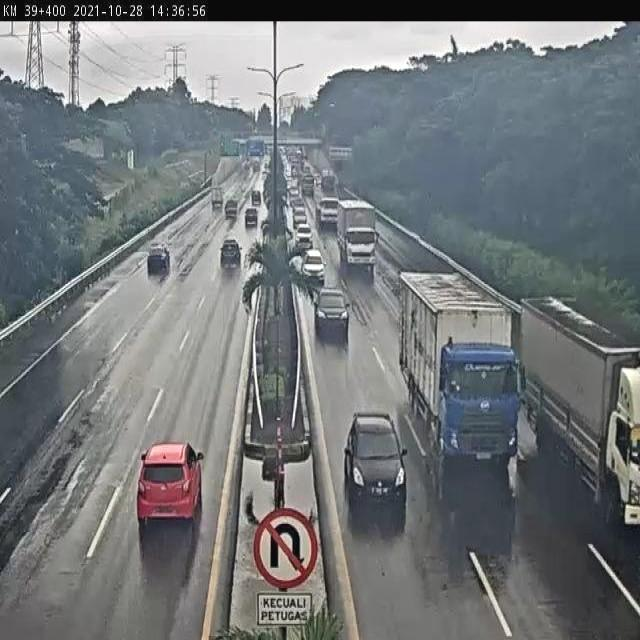Car: (345, 412, 409, 512), (136, 440, 206, 523), (313, 288, 351, 337), (302, 249, 329, 285), (220, 239, 243, 269), (295, 222, 314, 249), (292, 206, 308, 229), (244, 208, 259, 227), (251, 190, 261, 204)
Truck: (516, 295, 640, 532), (394, 269, 528, 466), (335, 196, 380, 272), (315, 196, 340, 227), (321, 168, 337, 191), (300, 173, 316, 196), (210, 186, 225, 210)
